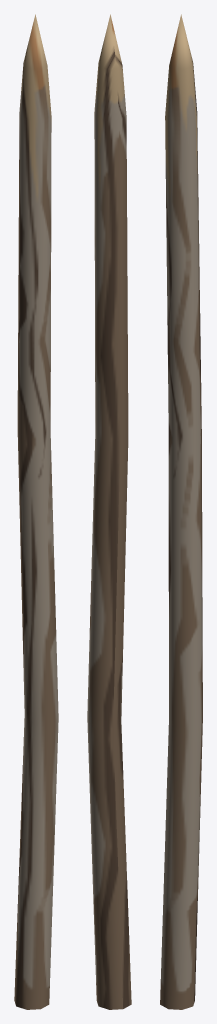
Rendered from SharpenedPole.FBX.
3 views of the same model, side by side, from view 1: azimuth 30°, elevation 25°; view 2: azimuth 210°, elevation 25°; view 3: azimuth 330°, elevation 25° (orthographic).
Visible parts, largest first — view 1: SharpenedPole; view 2: SharpenedPole; view 3: SharpenedPole.
Boxes of the visible parts, x1=… form: SharpenedPole: x1=14, y1=14, x2=58, y2=1009; SharpenedPole: x1=87, y1=14, x2=131, y2=1009; SharpenedPole: x1=160, y1=14, x2=202, y2=1009.
Size of the model in its own units: 10.01 by 236 by 9.
